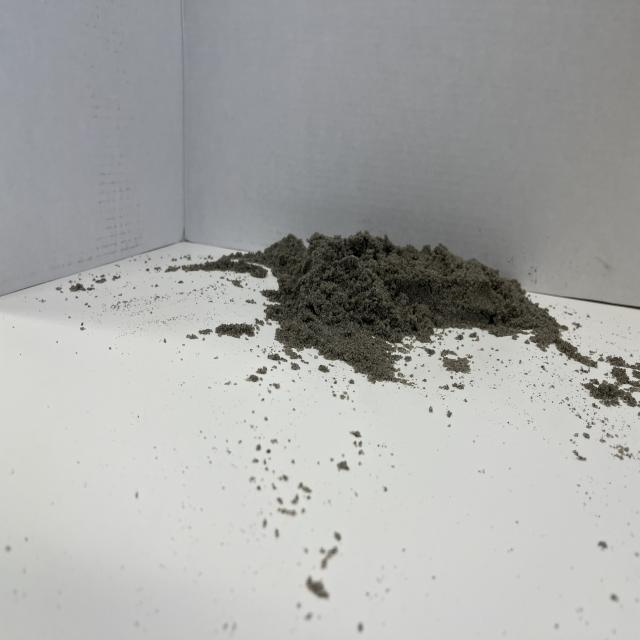sand: (243, 210, 568, 398)
